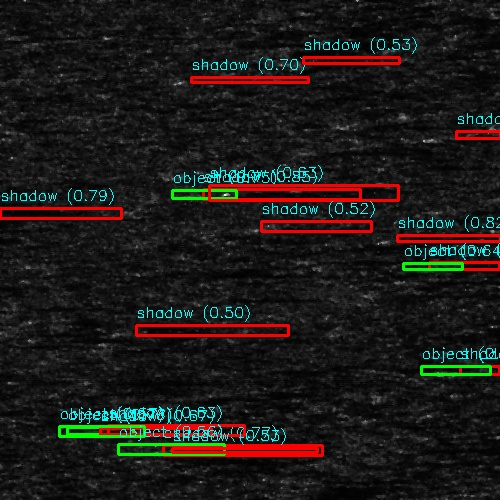rock: (148, 70, 221, 91), (410, 118, 500, 131), (246, 222, 319, 231), (414, 367, 500, 374), (115, 324, 168, 335), (132, 445, 195, 454), (387, 274, 460, 281), (170, 172, 211, 181), (414, 262, 455, 269), (89, 429, 130, 434), (316, 146, 347, 151), (272, 58, 303, 63), (223, 188, 234, 201), (381, 238, 412, 241)
shadow: (185, 70, 291, 91), (229, 188, 388, 201), (164, 445, 318, 454), (0, 209, 116, 220), (142, 324, 246, 335), (283, 222, 392, 231), (191, 172, 297, 181), (332, 146, 444, 151), (288, 58, 398, 63), (424, 274, 500, 281), (110, 429, 211, 434), (435, 262, 500, 269), (397, 238, 500, 241), (467, 367, 500, 374), (0, 374, 28, 381)
